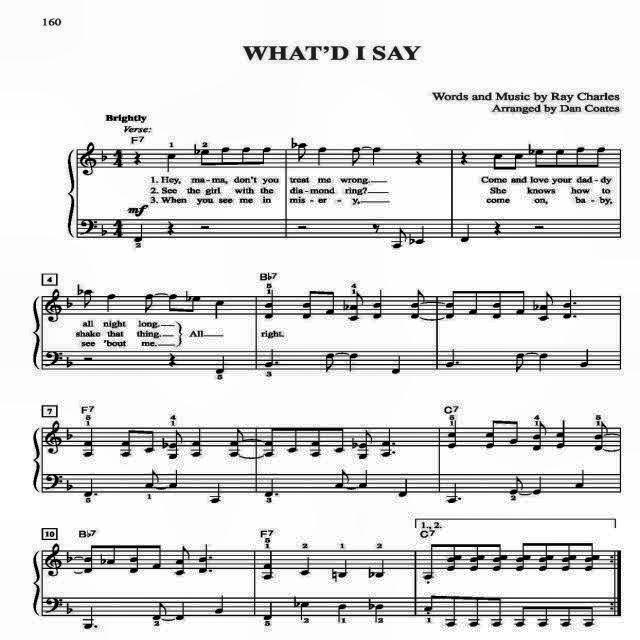Bass-clef: (42, 348, 62, 368), (44, 473, 60, 491), (80, 217, 94, 237), (45, 597, 59, 615)
Bemol: (64, 428, 74, 442), (64, 551, 74, 565), (341, 298, 352, 310), (64, 356, 74, 369), (100, 148, 108, 164), (192, 143, 200, 157), (290, 135, 298, 149), (99, 223, 107, 237), (65, 296, 73, 310), (76, 282, 84, 296), (184, 289, 192, 303), (66, 603, 74, 617), (99, 552, 107, 566), (368, 598, 377, 610), (162, 436, 170, 449), (528, 142, 536, 154), (408, 233, 416, 245), (532, 300, 540, 312), (66, 480, 74, 492), (351, 438, 359, 450), (367, 566, 375, 578), (292, 596, 300, 608)
Eighth-note: (424, 543, 448, 581), (448, 596, 468, 628), (470, 596, 490, 628), (484, 596, 504, 628), (288, 426, 310, 454), (468, 290, 490, 314), (516, 604, 538, 628), (328, 426, 346, 454), (586, 146, 608, 168), (574, 146, 594, 170), (262, 426, 286, 446), (512, 288, 528, 316), (148, 542, 164, 570), (251, 146, 273, 166), (553, 148, 575, 168), (220, 146, 240, 166), (534, 148, 554, 168), (493, 288, 513, 308), (310, 426, 330, 446), (503, 153, 525, 171), (320, 290, 336, 314), (504, 420, 520, 444), (538, 604, 554, 628), (580, 604, 596, 628), (105, 544, 124, 564), (392, 227, 408, 250), (184, 294, 202, 314), (302, 290, 322, 308), (446, 290, 466, 308), (130, 544, 150, 562), (121, 429, 142, 446), (511, 352, 527, 374), (140, 430, 156, 452), (424, 596, 446, 612), (562, 605, 578, 627), (409, 288, 426, 308), (173, 545, 190, 565), (240, 146, 256, 166), (144, 469, 160, 489), (170, 428, 186, 448), (228, 428, 244, 448), (334, 470, 350, 490), (593, 421, 609, 441), (152, 602, 168, 622), (532, 420, 546, 440), (200, 150, 216, 167), (486, 419, 502, 436), (297, 142, 309, 164), (324, 352, 336, 374), (84, 546, 100, 562), (350, 292, 364, 310), (540, 292, 554, 310), (509, 477, 523, 495), (351, 146, 363, 166), (82, 290, 94, 310), (144, 292, 156, 312), (168, 294, 180, 314), (360, 430, 372, 450), (494, 153, 506, 171)
Eighth-rest: (371, 222, 381, 234)
Half-rest: (294, 225, 310, 231), (80, 357, 96, 363), (196, 226, 214, 230), (532, 226, 546, 230)
Quarter-note: (347, 353, 363, 373), (297, 600, 311, 622), (190, 424, 202, 448), (132, 224, 146, 244), (372, 288, 386, 308), (536, 352, 550, 372), (374, 558, 388, 578), (371, 145, 383, 167), (264, 348, 276, 370), (84, 426, 96, 448), (82, 477, 94, 499), (210, 483, 222, 505), (532, 474, 544, 496), (84, 606, 95, 630), (164, 152, 176, 172), (415, 224, 427, 244), (106, 294, 118, 314), (214, 299, 226, 319), (562, 288, 574, 308), (391, 355, 403, 375), (444, 348, 456, 368), (580, 348, 592, 368), (264, 478, 276, 498), (446, 419, 458, 439), (574, 470, 586, 490), (214, 594, 226, 614), (262, 550, 274, 570), (262, 600, 274, 620), (373, 602, 385, 622), (216, 354, 227, 374), (169, 468, 179, 490), (359, 468, 369, 490), (398, 478, 409, 498), (337, 603, 348, 623), (556, 420, 568, 438), (317, 146, 327, 166), (265, 288, 275, 308), (382, 426, 392, 446), (199, 542, 209, 562), (176, 602, 186, 622), (339, 558, 349, 578), (460, 226, 472, 242), (300, 558, 312, 574), (449, 484, 458, 504), (447, 546, 458, 562), (264, 308, 276, 320), (410, 307, 422, 319), (444, 308, 456, 320), (561, 308, 573, 320), (532, 439, 544, 451), (120, 447, 132, 458), (191, 447, 203, 458), (264, 447, 276, 458), (555, 438, 567, 449), (84, 562, 95, 574), (381, 447, 392, 458), (303, 308, 313, 320), (350, 310, 360, 322), (492, 308, 502, 320), (82, 447, 94, 457), (168, 450, 180, 460), (229, 446, 239, 458), (358, 449, 370, 459), (484, 438, 496, 448), (175, 564, 185, 576), (262, 570, 274, 580), (373, 308, 382, 320), (540, 311, 550, 321), (448, 438, 458, 448), (594, 439, 604, 449), (130, 562, 138, 574), (312, 447, 321, 457), (200, 563, 208, 573)
Quarter-rest: (491, 220, 503, 236), (458, 150, 469, 167), (133, 150, 143, 167), (415, 150, 425, 167), (168, 352, 178, 368), (167, 220, 176, 236)
Treble-clef: (78, 142, 99, 178), (44, 288, 64, 322), (45, 420, 63, 454), (46, 542, 62, 578)
